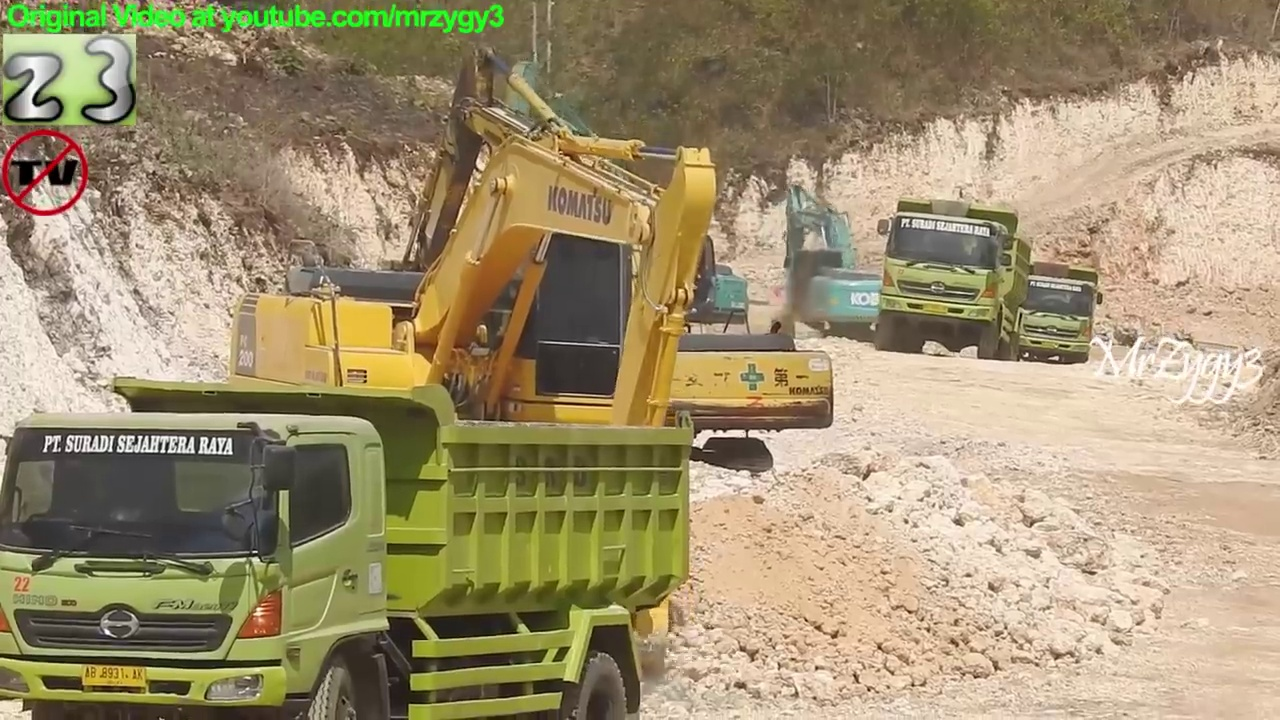excavator: (174, 113, 727, 648), (333, 43, 838, 493), (429, 57, 755, 382), (767, 178, 917, 351)
truck: (1, 369, 703, 720), (874, 193, 1036, 362), (992, 257, 1110, 368)
